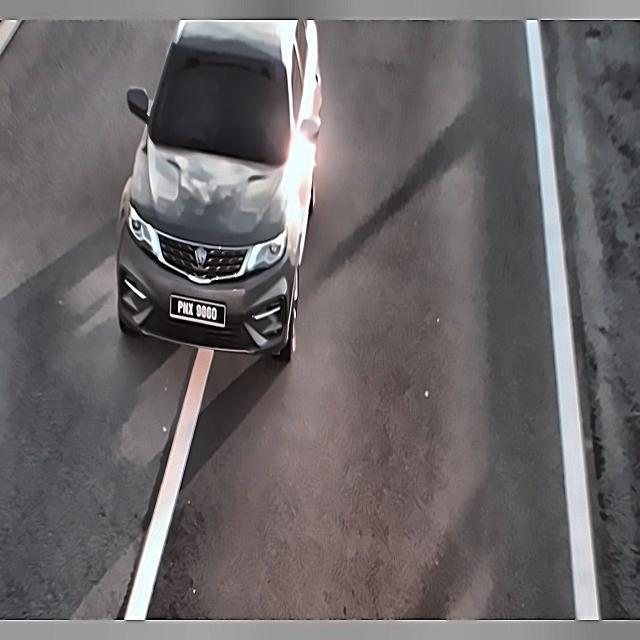car: (166, 285, 236, 337)
